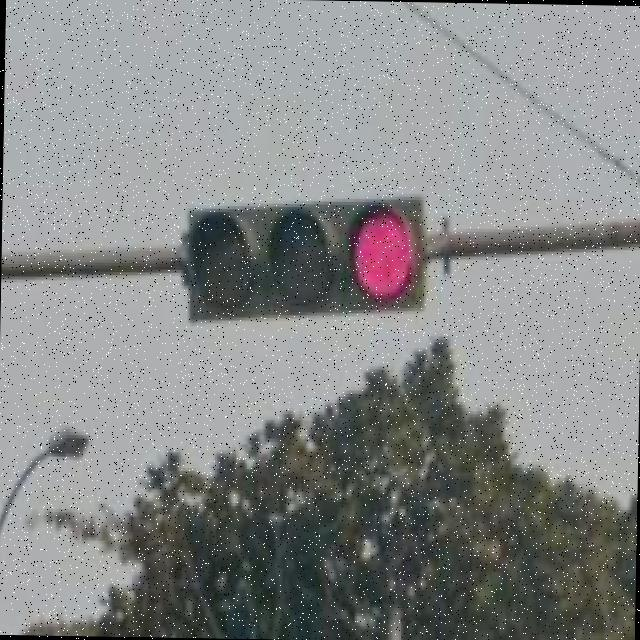Czerwone swiatlo: (183, 208, 421, 314)
